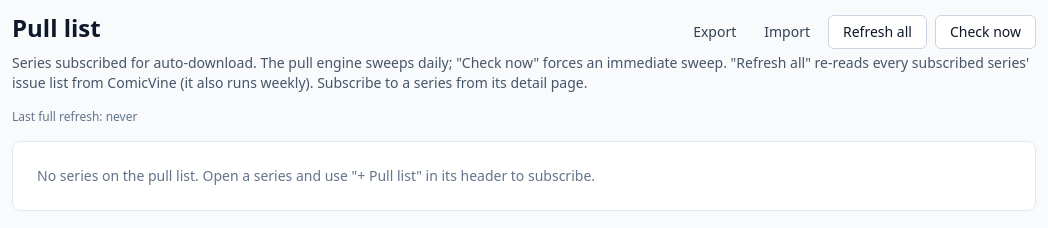
Test: pull-list page › full catalog refresh › starts a refresh and reads the new status
What coordinates should you click on to do the following:
click the button "Refresh all"
I would click on:
 (877, 32)
Its box is [828,15,927,49].
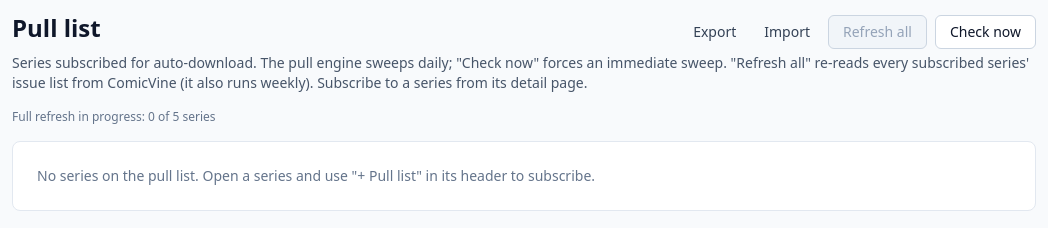
Result: the text with test id "refresh-status" shows "0 of 5 series" at [12,108,216,125]
